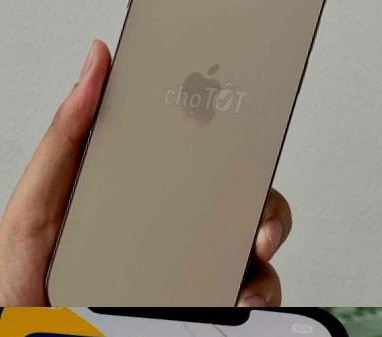physical_damage: (125, 307, 368, 337)
